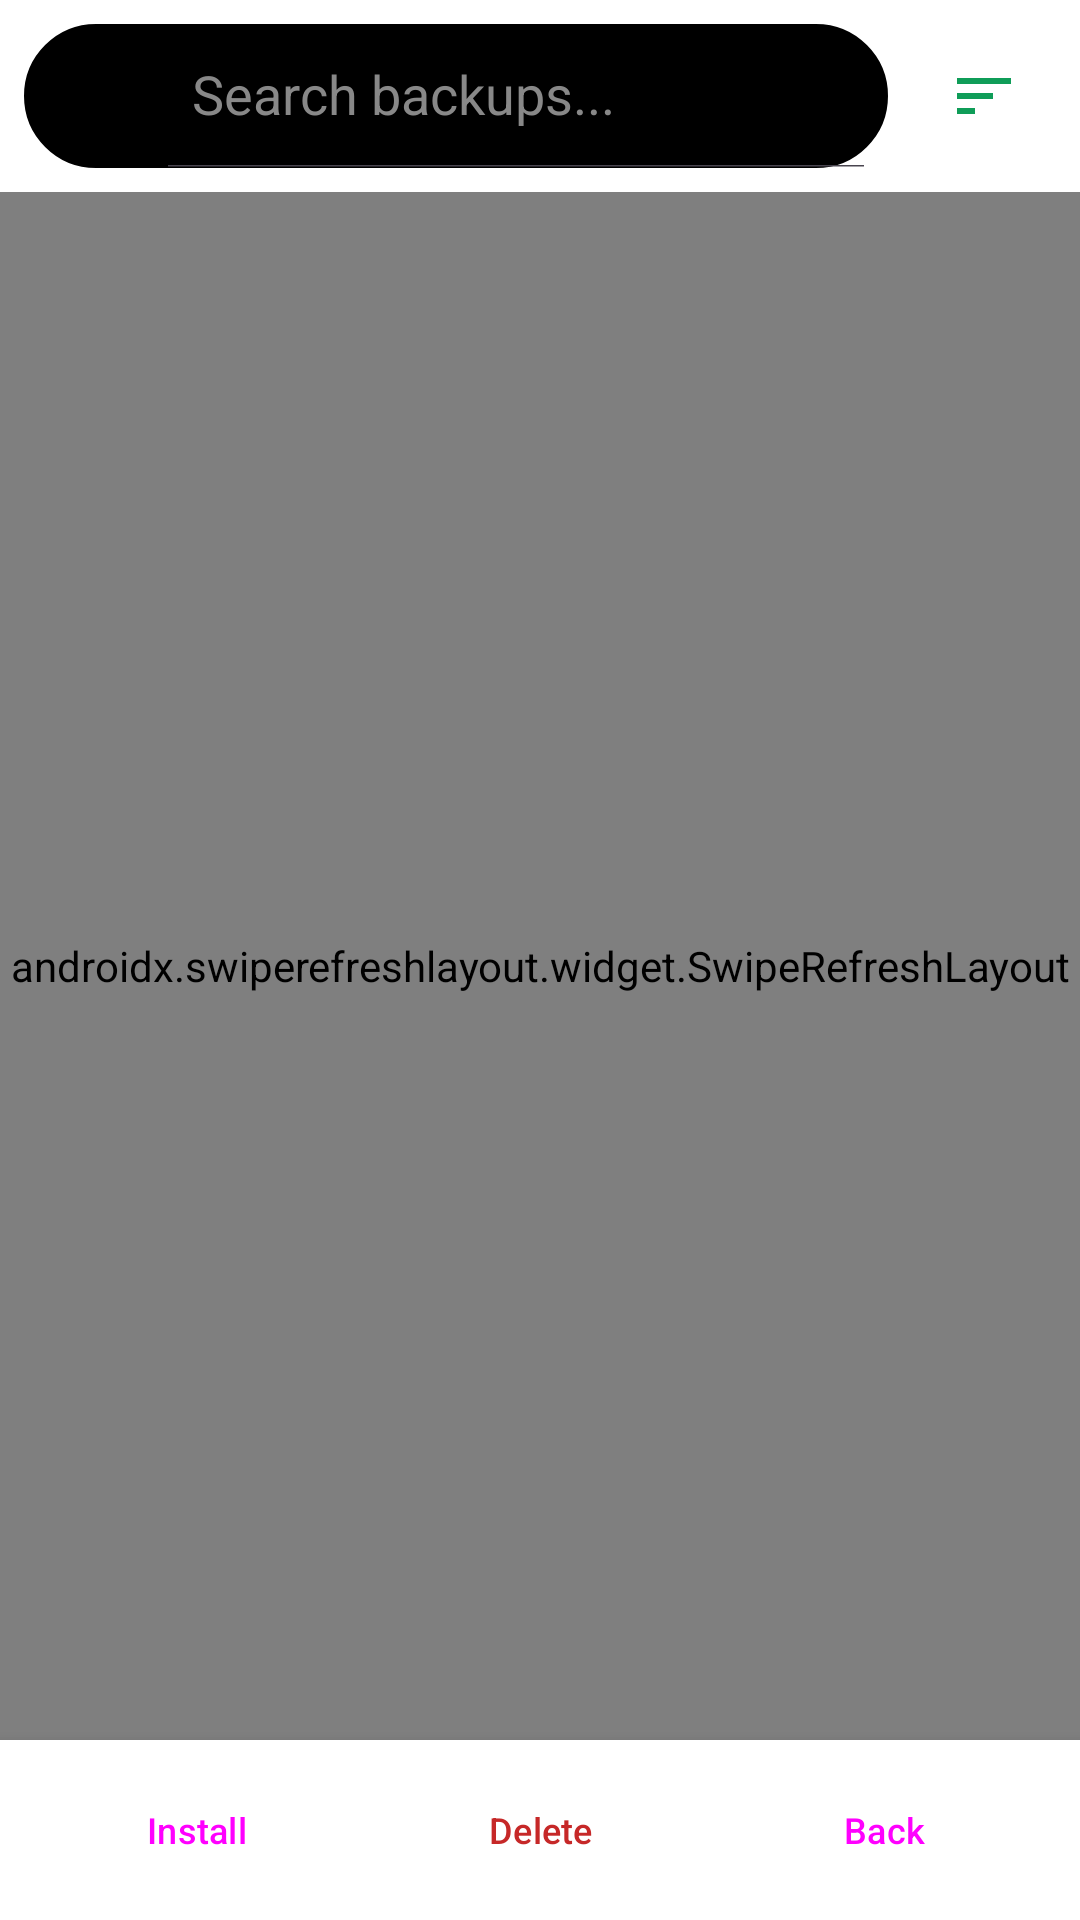

Where icons sit on this 1080px×1920px app screen, as (x1,y1,x2,y2):
Sort By: (957,78,1011,114)
